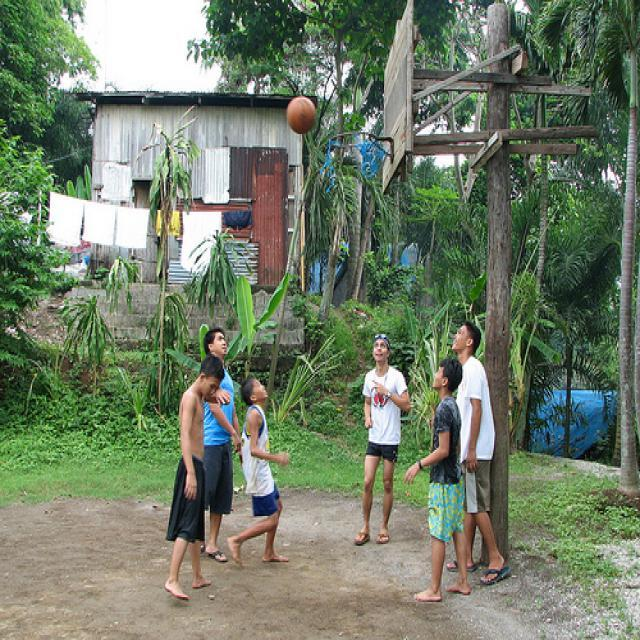basketball: (286, 95, 316, 135)
rim: (331, 129, 378, 154)
